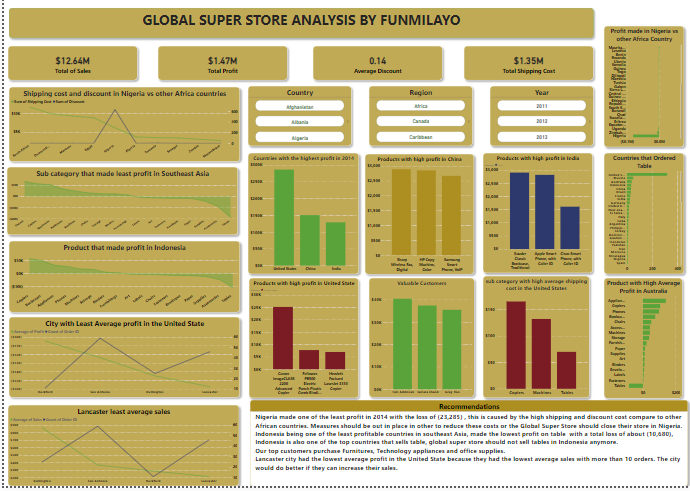

What the dashboard file says about the page in this screenshot:
{"tool":"powerbi","page":{"name":"Page 1","canvas":[4000,2900],"ordinal":0},"visuals":[{"type":"columnChart","title":"Countries with the highest profit in 2014","fields":{"Category":["Orders.Country"],"Y":["Sum(Orders.Profit)"]},"box":[1417.3,971.1,643,702.1],"z":0},{"type":"barChart","title":"Product with High Average Profit in Australia","fields":{"Category":["Orders.Sub-Category"],"Y":["Avg(Orders.Profit)"],"Series":["Orders.Country"]},"box":[3478,1695.1,453.7,697.6],"z":1000},{"type":"columnChart","title":"Valuable Customers","fields":{"Category":["Orders.Customer Name"],"Y":["Sum(Orders.Sales)"]},"box":[2116.8,1695.6,610.2,691.2],"z":2000},{"type":"advancedSlicerVisual","fields":{"Values":["Orders.Country"]},"box":[1416,582,600,348],"z":3000},{"type":"advancedSlicerVisual","fields":{"Values":["Orders.Region"]},"box":[2118,582,600,348],"z":4000},{"type":"advancedSlicerVisual","fields":{"Values":["Orders.Year"]},"box":[2820,582,600,348],"z":5000},{"type":"card","fields":{"Values":["Sum(Orders.Sales)"]},"box":[24,348,750,198],"z":6000},{"type":"card","fields":{"Values":["Sum(Orders.Profit)"]},"box":[894,348,750,198],"z":7000},{"type":"card","fields":{"Values":["Avg(Orders.Discount)"]},"box":[1794,348,750,198],"z":8000},{"type":"card","fields":{"Values":["Sum(Orders.Shipping Cost)"]},"box":[2670,348,750,198],"z":9000},{"type":"textbox","box":[27,129.6,3391.2,172.8],"z":10000},{"type":"textbox","title":"Recommendations","box":[1425,2400,2540,500],"z":11000},{"type":"columnChart","title":"sub category with high average shipping cost in the United States","fields":{"Category":["Orders.Sub-Category"],"Y":["Avg(Orders.Shipping Cost)"],"Series":["Orders.Country"]},"box":[2778.6,1683.3,616.7,707.1],"z":12000},{"type":"columnChart","title":"Products with high profit in United State","fields":{"Y":["Sum(Orders.Profit)"],"Category":["Orders.Product Name"],"Series":["Orders.Country"]},"box":[1423.9,1692.9,636.5,695.5],"z":13000},{"type":"columnChart","title":"Products with high profit in China","fields":{"Y":["Sum(Orders.Profit)"],"Category":["Orders.Product Name"],"Series":["Orders.Country"]},"box":[2095.2,972,631.8,696.6],"z":14000},{"type":"columnChart","title":"Products with high profit in India","fields":{"Y":["Sum(Orders.Profit)"],"Category":["Orders.Product Name"],"Series":["Orders.Country"]},"box":[6816.7,1419,635.7,695.2],"z":15000},{"type":"columnChart","title":"Products with high profit in India","fields":{"Y":["Sum(Orders.Profit)"],"Category":["Orders.Product Name"],"Series":["Orders.Country"]},"box":[2775.6,971.1,636.5,695.5],"z":16000},{"type":"barChart","title":"Countries that Ordered Table","fields":{"Category":["Orders.Country"],"Series":["Orders.Sub-Category"],"Y":["CountNonNull(Orders.Sub-Category)"]},"box":[3477.6,966.6,464.4,702],"z":17000},{"type":"barChart","title":"Profit made in Nigeria vs other Africa Country","fields":{"Category":["Orders.Country"],"Y":["Sum(Orders.Profit)"],"Series":["Orders.Region"]},"box":[3477.6,232.2,464.4,702],"z":18000},{"type":"lineChart","title":"Shipping cost and discount in Nigeria vs other Africa countries","fields":{"Y":["Sum(Orders.Shipping Cost)"],"Y2":["Sum(Orders.Discount)"],"Category":["Orders.Country"]},"box":[26.2,584,1338.6,433.1],"z":19000},{"type":"areaChart","title":"Sub category that made least profit in Southeast Asia","fields":{"Category":["Orders.Sub-Category"],"Y":["Sum(Orders.Profit)"]},"box":[19.7,1049.9,1338.6,393.7],"z":20000},{"type":"areaChart","title":"Product that made profit in Indonesia","fields":{"Category":["Orders.Sub-Category"],"Y":["Sum(Orders.Profit)"]},"box":[26.2,1476.4,1338.6,413.4],"z":21000},{"type":"lineChart","title":"City with Least Average profit in the United State","fields":{"Y":["Avg(Orders.Profit)"],"Category":["Orders.City"],"Y2":["CountNonNull(Orders.Order ID)"]},"box":[26.2,1922.6,1338.6,465.9],"z":22000},{"type":"lineChart","title":"Lancaster least average sales","fields":{"Category":["Orders.City"],"Y2":["CountNonNull(Orders.Order ID)"],"Y":["Avg(Orders.Sales)"]},"box":[25,2430,1340,470],"z":22001}]}

Visuals, with their boxes in screenshot pixels (x1, y1, x2, y2), scaled from the page's 4000x2900 canvas onto the 690x491 screenshot:
"Countries with the highest profit in 2014" columnChart: rect(244, 164, 355, 283)
"Product with High Average Profit in Australia" barChart: rect(600, 287, 678, 405)
"Valuable Customers" columnChart: rect(365, 287, 470, 404)
advancedSlicerVisual - Orders.Country: rect(244, 99, 348, 157)
advancedSlicerVisual - Orders.Region: rect(365, 99, 469, 157)
advancedSlicerVisual - Orders.Year: rect(486, 99, 590, 157)
card - Sum(Orders.Sales): rect(4, 59, 134, 92)
card - Sum(Orders.Profit): rect(154, 59, 284, 92)
card - Avg(Orders.Discount): rect(309, 59, 439, 92)
card - Sum(Orders.Shipping Cost): rect(461, 59, 590, 92)
textbox: rect(5, 22, 590, 51)
"Recommendations" textbox: rect(246, 406, 684, 490)
"sub category with high average shipping cost in the United States" columnChart: rect(479, 285, 586, 405)
"Products with high profit in United State" columnChart: rect(246, 287, 355, 404)
"Products with high profit in China" columnChart: rect(361, 165, 470, 283)
"Products with high profit in India" columnChart: rect(479, 164, 589, 282)
"Countries that Ordered Table" barChart: rect(600, 164, 680, 283)
"Profit made in Nigeria vs other Africa Country" barChart: rect(600, 39, 680, 158)
"Shipping cost and discount in Nigeria vs other Africa countries" lineChart: rect(5, 99, 235, 172)
"Sub category that made least profit in Southeast Asia" areaChart: rect(3, 178, 234, 244)
"Product that made profit in Indonesia" areaChart: rect(5, 250, 235, 320)
"City with Least Average profit in the United State" lineChart: rect(5, 326, 235, 404)
"Lancaster least average sales" lineChart: rect(4, 411, 235, 490)
